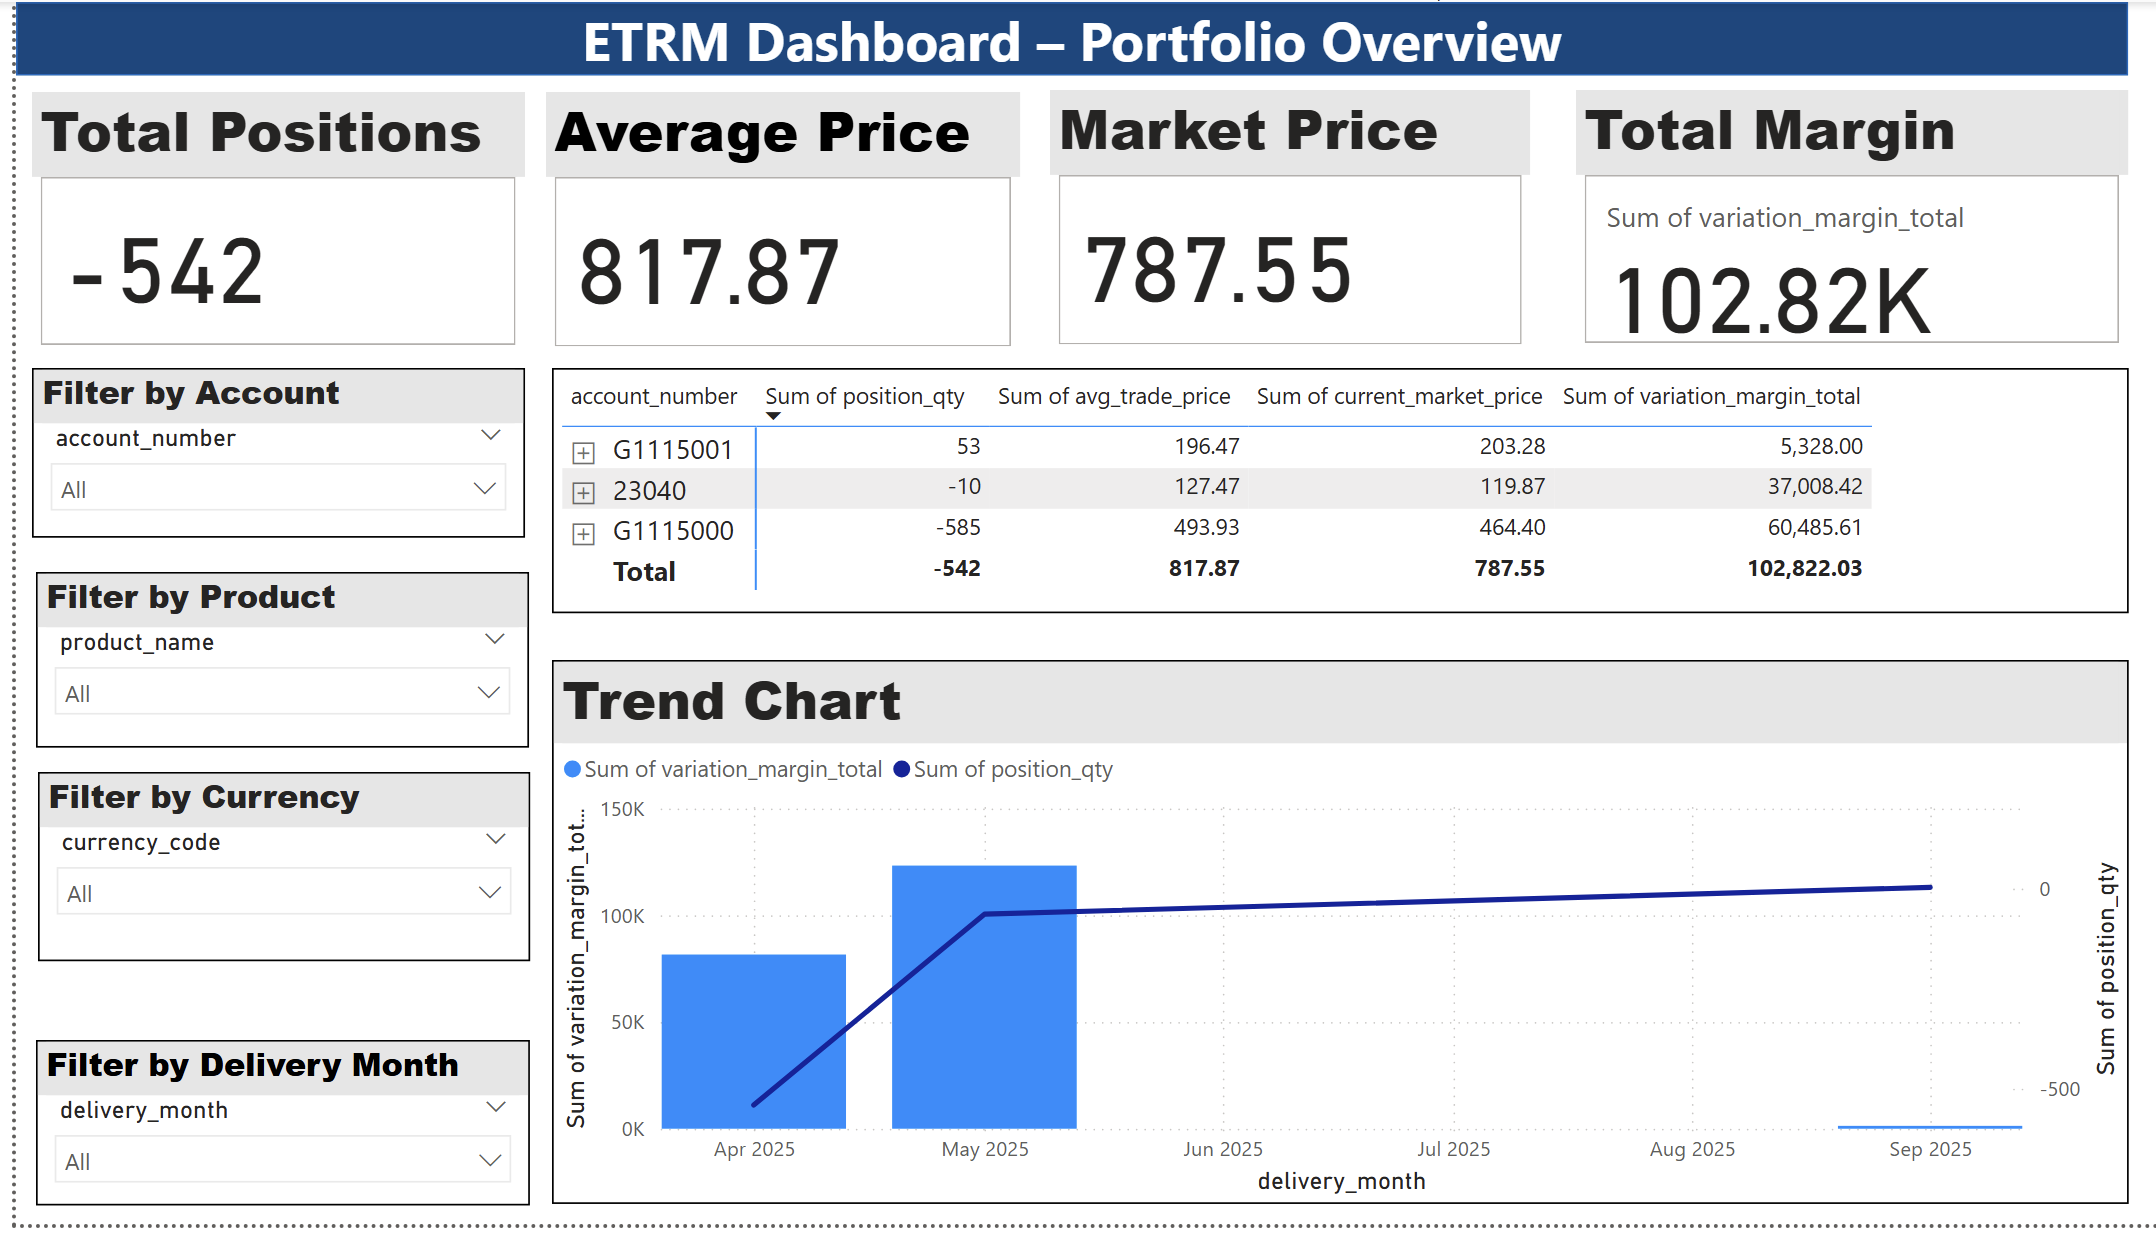

This screenshot's page, from the dashboard's own definition file:
{"tool":"powerbi","page":{"name":"Portfolio Overview","canvas":[1280,720],"ordinal":0},"visuals":[{"type":"cardVisual","title":"Total Positions","fields":{"Data":["Sum(v_positions.position_qty)"]},"box":[9.6,53,290.4,154.2],"z":0},{"type":"cardVisual","title":"Average Price","fields":{"Data":["Sum(v_positions.avg_trade_price)"]},"box":[312,53,279.5,155.4],"z":1000},{"type":"cardVisual","title":"Market Price","fields":{"Data":["Sum(v_positions.current_market_price)"]},"box":[609.6,51.8,283.1,155.4],"z":2000},{"type":"cardVisual","title":"Total Margin","fields":{"Data":["Sum(v_positions.variation_margin_total)"]},"box":[919.3,51.8,325.3,154.2],"z":3000},{"type":"slicer","title":"Filter by Account","fields":{"Values":["v_positions.account_number"]},"box":[9.6,215.7,290.4,100],"z":4000},{"type":"slicer","title":"Filter by Product","fields":{"Values":["v_positions.product_name"]},"box":[12,336.1,290.4,103.6],"z":5000},{"type":"slicer","title":"Filter by Currency","fields":{"Values":["v_positions.currency_code"]},"box":[12.7,453.2,289.9,111.4],"z":6000},{"type":"slicer","title":"Filter by Delivery Month","fields":{"Values":["v_positions.delivery_month"]},"box":[11.4,611.4,291.1,97.5],"z":7000},{"type":"pivotTable","fields":{"Rows":["v_positions.account_number","v_positions.product_name","v_positions.delivery_month.Variation.Date Hierarchy.Year","v_positions.delivery_month.Variation.Date Hierarchy.Quarter","v_positions.delivery_month.Variation.Date Hierarchy.Month","v_positions.delivery_month.Variation.Date Hierarchy.Day"],"Values":["Sum(v_positions.position_qty)","Sum(v_positions.avg_trade_price)","Sum(v_positions.current_market_price)","Sum(v_positions.variation_margin_total)"]},"box":[315.7,215.7,928.9,144.6],"z":8000},{"type":"actionButton","box":[0,0,100,40],"z":9000},{"type":"lineClusteredColumnComboChart","title":"Trend Chart","fields":{"Y":["Sum(v_positions.variation_margin_total)","select"],"Y2":["Sum(v_positions.position_qty)"],"Category":["v_positions.delivery_month Hierarchy.delivery_month"]},"box":[315.7,388,928.9,320.5],"z":10000},{"type":"shape","box":[0,0,1244.6,43.4],"z":10002}]}

Visuals, with their boxes in screenshot pixels (x1, y1, x2, y2), scaled from the page's 1280x720 canvas onto the 2156x1236 screenshot:
"Total Positions" cardVisual: [16,91,505,356]
"Average Price" cardVisual: [526,91,996,358]
"Market Price" cardVisual: [1027,89,1504,356]
"Total Margin" cardVisual: [1548,89,2096,354]
"Filter by Account" slicer: [16,370,505,542]
"Filter by Product" slicer: [20,577,509,755]
"Filter by Currency" slicer: [21,778,510,969]
"Filter by Delivery Month" slicer: [19,1050,510,1217]
pivotTable - v_positions.account_number x v_positions.product_name: [532,370,2096,619]
actionButton: [0,0,168,69]
"Trend Chart" lineClusteredColumnComboChart: [532,666,2096,1216]
shape: [0,0,2096,75]
